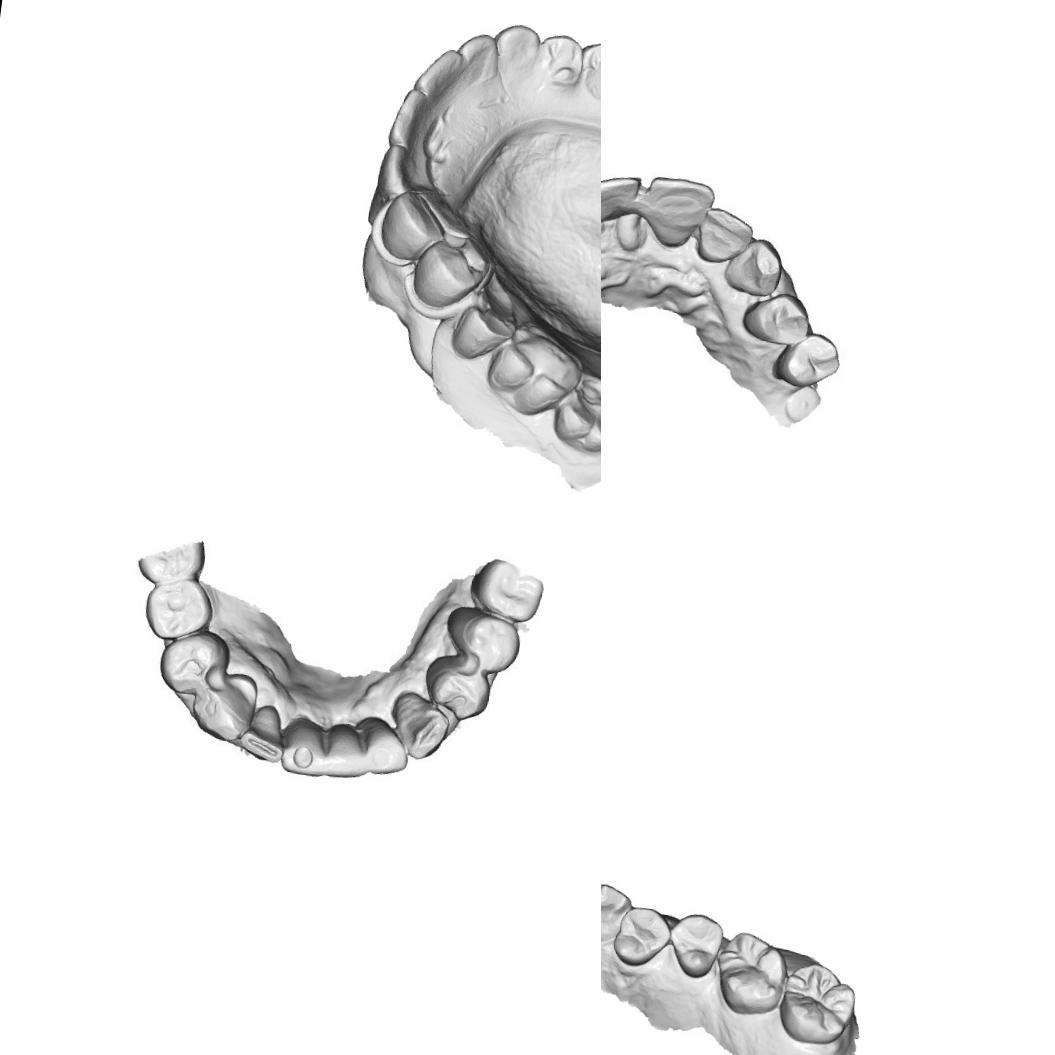canine: (375, 188, 448, 266), (188, 667, 260, 746), (386, 690, 453, 763), (723, 236, 786, 300), (492, 20, 544, 80), (601, 879, 635, 947)
implant: (783, 384, 821, 424)
incisor: (644, 174, 712, 250), (354, 713, 414, 779), (411, 43, 469, 103), (237, 701, 289, 765), (278, 716, 331, 778), (700, 202, 752, 265), (385, 88, 436, 148), (323, 720, 372, 782), (454, 27, 502, 83), (377, 141, 421, 197), (601, 169, 640, 230)
molar: (480, 328, 586, 420), (774, 960, 860, 1050), (710, 927, 791, 1020), (465, 554, 547, 625), (546, 368, 601, 455)
premolar: (411, 234, 492, 311), (154, 623, 234, 700), (440, 604, 524, 677), (142, 572, 218, 645), (420, 652, 494, 724), (448, 295, 518, 367), (740, 287, 815, 349), (665, 910, 727, 984), (772, 329, 843, 393), (609, 904, 675, 972), (538, 26, 594, 94), (579, 36, 601, 94)
